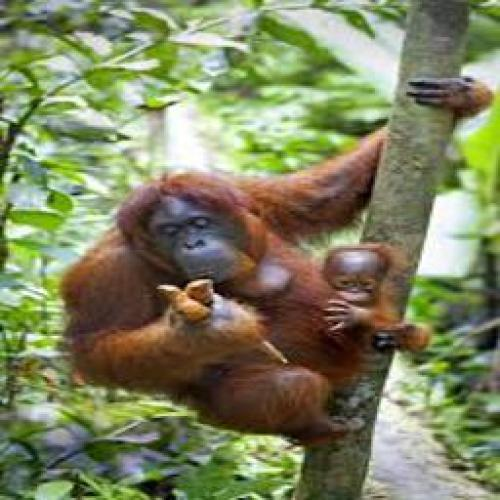orangutan-endangered: (62, 74, 494, 443), (320, 241, 394, 332)
